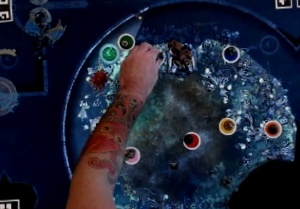blue: (219, 43, 243, 64)
green: (118, 30, 138, 51)
orange: (262, 117, 285, 139)
pink: (123, 143, 144, 165)
red: (181, 127, 203, 152)
violet: (151, 49, 168, 66)
yellow: (216, 115, 240, 136)
